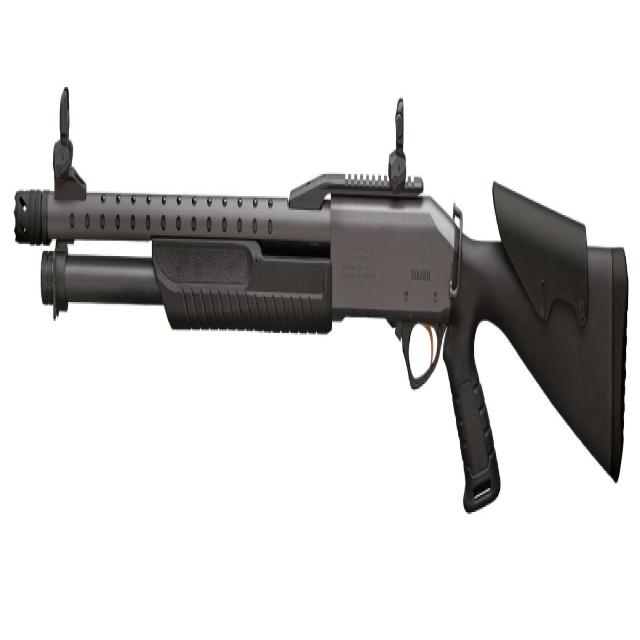ShotGun: (13, 87, 628, 493)
